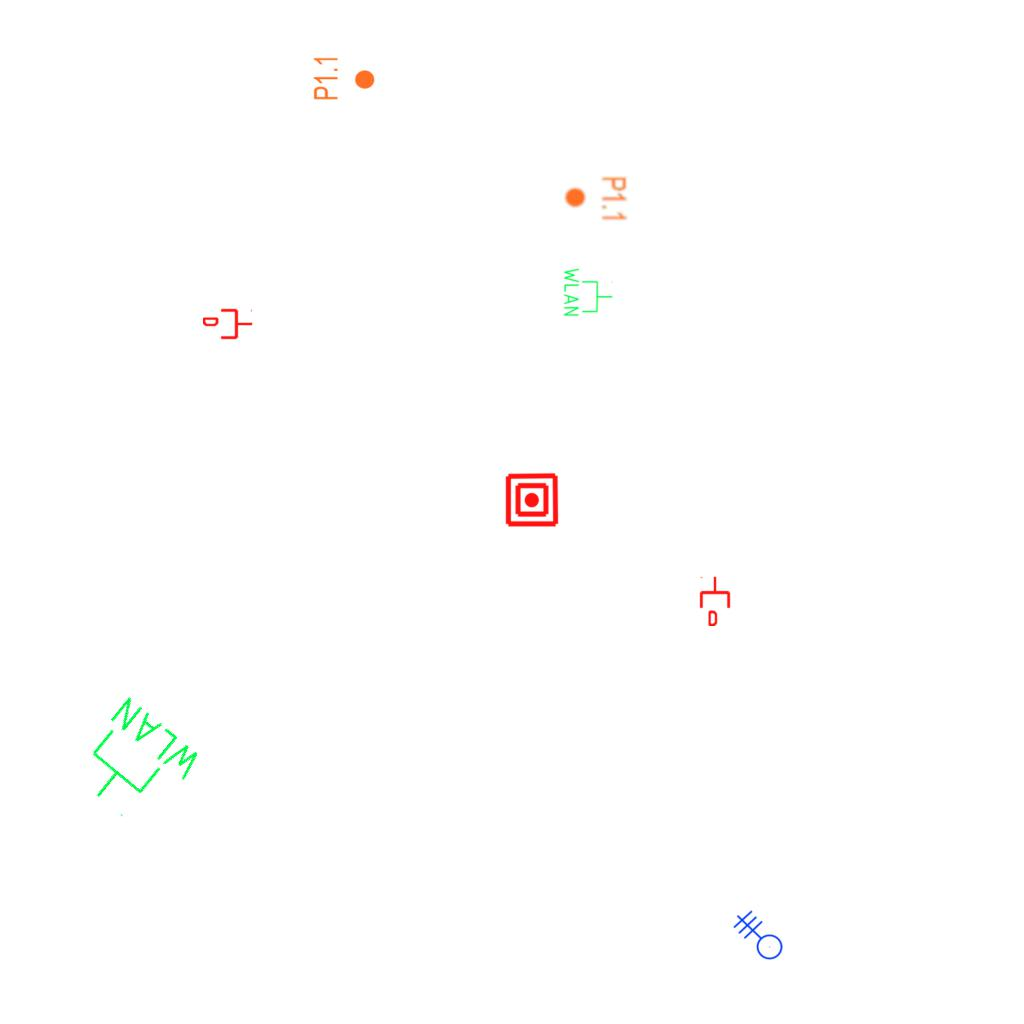Datenanschluss_einfach: (203, 307, 253, 341), (698, 576, 732, 626)
Downlight_LED_Einbauleuchten_Flur_2: (312, 55, 376, 101), (564, 176, 628, 222)
Elektroanschluss_allgemein_400V_Geraeteanschlussdose_400V: (727, 910, 783, 968)
NAM-Nichtautomatischer_Melder: (504, 472, 560, 528)
WLAN: (62, 691, 210, 838), (562, 266, 614, 318)
